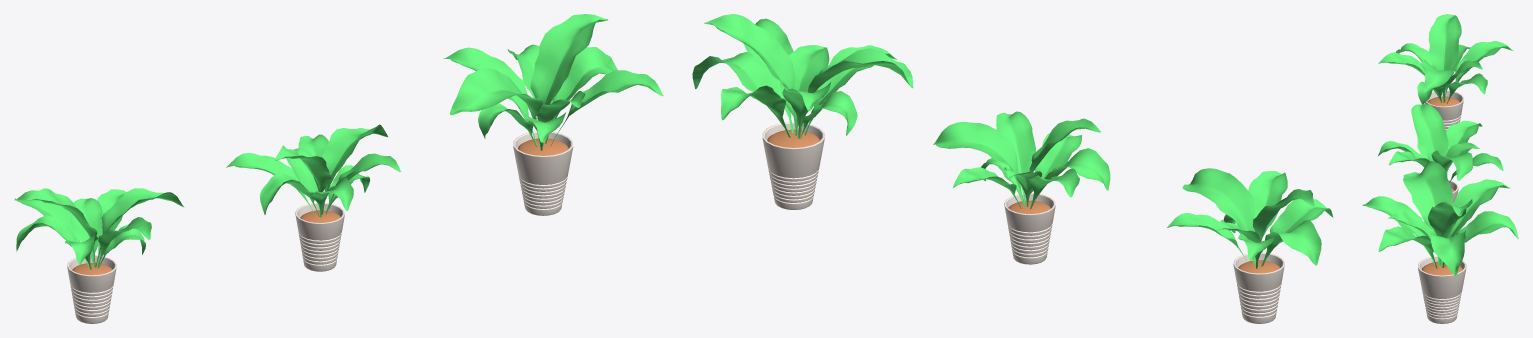
File: Plantset.obj
The picture shows the model from 3 angles, left to right: view 1: azimuth 30°, elevation 25°; view 2: azimuth 150°, elevation 25°; view 3: azimuth 270°, elevation 25°; orthographic projection. The views are drawn at different scales.
Parts seen in each view (by area): view 1: Diffenbachia_Leaf_03, Diffenbachia_Leaf_01, Diffenbachia_Leaf_02, White_Pot_03, White_Pot_02, White_Pot_01, Ground_03; view 2: Diffenbachia_Leaf_03, Diffenbachia_Leaf_01, Diffenbachia_Leaf_02, White_Pot_03, White_Pot_02, White_Pot_01, Ground_03; view 3: Diffenbachia_Leaf_03, Diffenbachia_Leaf_02, Diffenbachia_Leaf_01, White_Pot_03, White_Pot_01, Ground_03, Ground_01, White_Pot_02.
Boxes of the visible parts, <box> form: Diffenbachia_Leaf_03: <box>443,14,663,150</box>; Diffenbachia_Leaf_01: <box>226,124,401,217</box>; Diffenbachia_Leaf_02: <box>14,188,184,269</box>; White_Pot_03: <box>513,131,573,215</box>; White_Pot_02: <box>295,203,344,271</box>; White_Pot_01: <box>67,255,116,323</box>; Ground_03: <box>518,138,568,155</box>; Diffenbachia_Leaf_03: <box>692,14,913,138</box>; Diffenbachia_Leaf_01: <box>933,111,1110,209</box>; Diffenbachia_Leaf_02: <box>1167,168,1333,268</box>; White_Pot_03: <box>762,122,824,209</box>; White_Pot_02: <box>1004,193,1055,264</box>; White_Pot_01: <box>1233,252,1284,323</box>; Ground_03: <box>767,129,819,147</box>; Diffenbachia_Leaf_03: <box>1362,161,1518,275</box>; Diffenbachia_Leaf_02: <box>1378,14,1513,104</box>; Diffenbachia_Leaf_01: <box>1378,104,1503,182</box>; White_Pot_03: <box>1418,256,1466,323</box>; White_Pot_01: <box>1424,90,1463,131</box>; Ground_03: <box>1421,261,1462,275</box>; Ground_01: <box>1427,96,1459,106</box>; White_Pot_02: <box>1424,180,1458,224</box>.
Bounding box in the file's own units: 3144 × 848 × 875.
